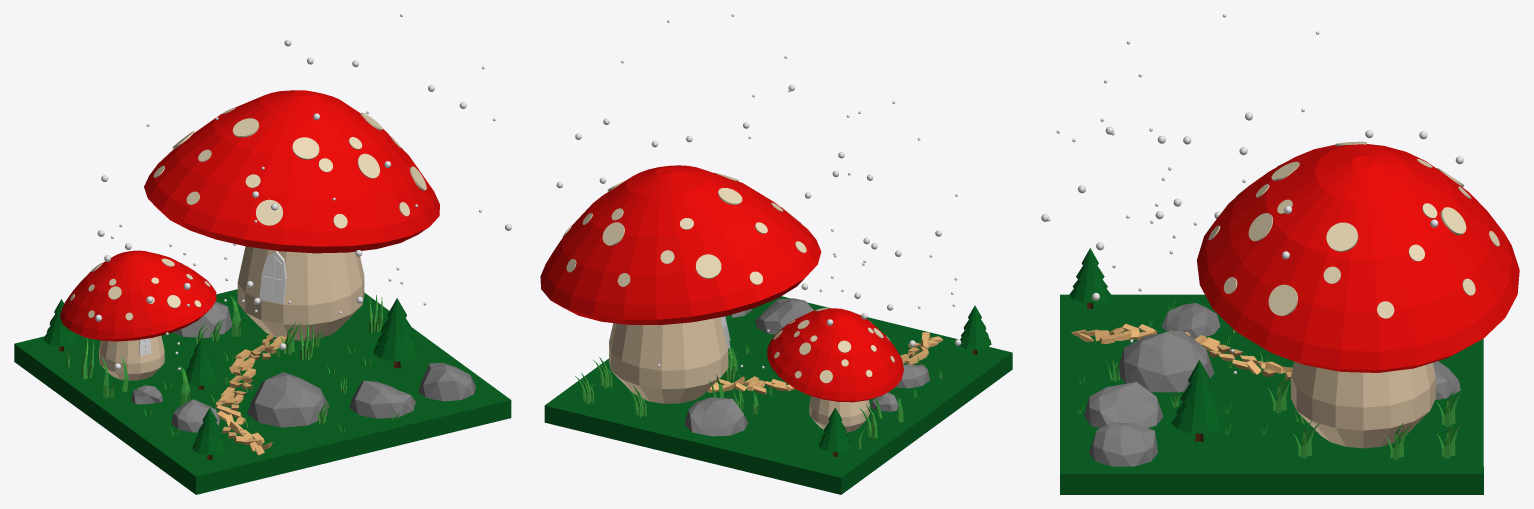
The model's file is Mushroom_Town.glb.
3 renders of one model, left to right at view 1: azimuth 30°, elevation 25°; view 2: azimuth 150°, elevation 25°; view 3: azimuth 270°, elevation 25°, orthographic. The views are drawn at different scales.
Visible parts, largest first — view 1: Circle.108_hongo_0, Circle.108_Material_0, Circle.108_Material.002_0, Circle.108_PIEDRA_0, Circle.108_bolas hongo_0, Circle.108_PASTO_0, Circle.108_PIEDRITAASS_0, Circle.108_brillosidad_0, Circle.108_chispas_0; view 2: Circle.108_hongo_0, Circle.108_Material_0, Circle.108_Material.002_0, Circle.108_PIEDRA_0, Circle.108_bolas hongo_0, Circle.108_PASTO_0, Circle.108_PIEDRITAASS_0, Circle.108_chispas_0; view 3: Circle.108_hongo_0, Circle.108_Material_0, Circle.108_PIEDRA_0, Circle.108_Material.002_0, Circle.108_bolas hongo_0, Circle.108_PASTO_0, Circle.108_PIEDRITAASS_0, Circle.108_chispas_0.
Boxes of the visible parts, bbox=[...] form: Circle.108_hongo_0: bbox=[60, 90, 439, 341]; Circle.108_Material_0: bbox=[14, 289, 511, 494]; Circle.108_Material.002_0: bbox=[99, 246, 364, 380]; Circle.108_PIEDRA_0: bbox=[131, 301, 475, 432]; Circle.108_bolas hongo_0: bbox=[70, 107, 426, 320]; Circle.108_PASTO_0: bbox=[66, 295, 399, 435]; Circle.108_PIEDRITAASS_0: bbox=[215, 333, 286, 455]; Circle.108_brillosidad_0: bbox=[139, 251, 286, 355]; Circle.108_chispas_0: bbox=[95, 14, 511, 370]; Circle.108_hongo_0: bbox=[540, 165, 903, 402]; Circle.108_Material_0: bbox=[544, 296, 1012, 494]; Circle.108_Material.002_0: bbox=[609, 317, 869, 432]; Circle.108_PIEDRA_0: bbox=[684, 298, 929, 436]; Circle.108_bolas hongo_0: bbox=[562, 172, 894, 383]; Circle.108_PASTO_0: bbox=[575, 302, 943, 449]; Circle.108_PIEDRITAASS_0: bbox=[707, 332, 943, 394]; Circle.108_chispas_0: bbox=[556, 14, 958, 368]; Circle.108_hongo_0: bbox=[1197, 144, 1519, 372]; Circle.108_Material_0: bbox=[1060, 248, 1483, 494]; Circle.108_PIEDRA_0: bbox=[1084, 303, 1460, 466]; Circle.108_Material.002_0: bbox=[1291, 361, 1435, 448]; Circle.108_bolas hongo_0: bbox=[1208, 141, 1499, 318]; Circle.108_PASTO_0: bbox=[1076, 299, 1463, 460]; Circle.108_PIEDRITAASS_0: bbox=[1071, 323, 1292, 380]; Circle.108_chispas_0: bbox=[1041, 14, 1463, 374].
Size of the model in its own units: 156 by 129 by 146.
